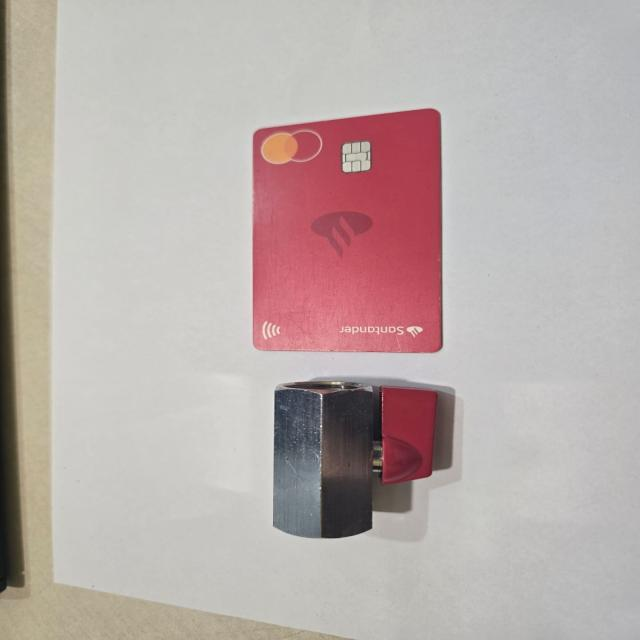cartao: (253, 110, 442, 351)
rosca_interna: (274, 380, 436, 538)
